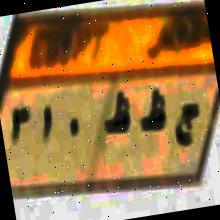0: (58, 108, 87, 151)
1: (35, 98, 58, 154)
3: (5, 99, 34, 153)
Thaa: (134, 82, 172, 143), (99, 87, 138, 138)
jeem: (168, 88, 205, 154)
